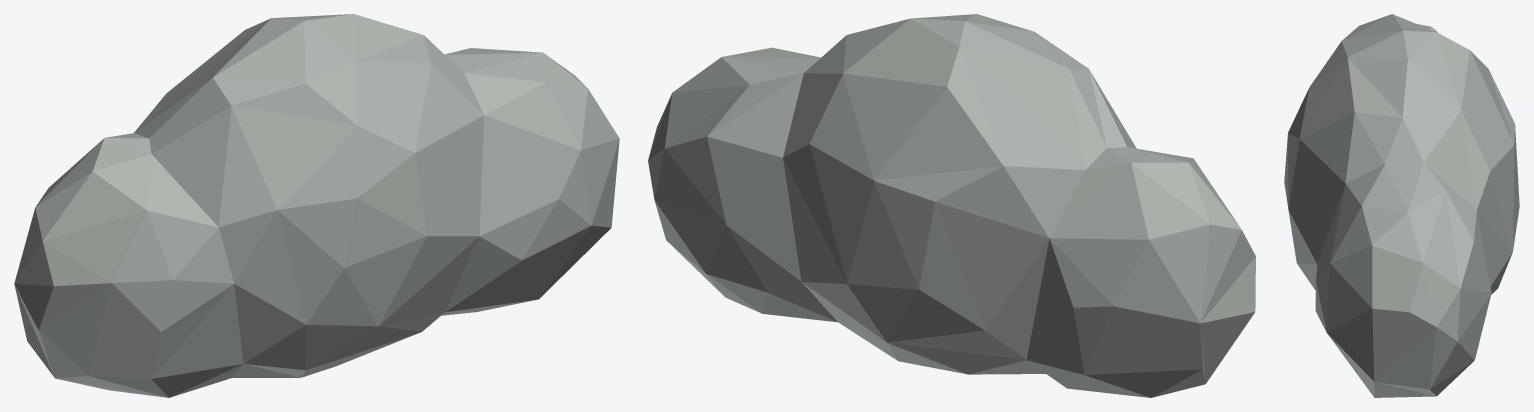
The model's file is SM_Icon_Weather_Cloudy_01.fbx.
The picture shows the model from 3 angles, left to right: view 1: azimuth 30°, elevation 25°; view 2: azimuth 150°, elevation 25°; view 3: azimuth 270°, elevation 25°; orthographic projection. The views are drawn at different scales.
Parts seen in each view (by area): view 1: SM_Icon_Weather_Cloudy_01; view 2: SM_Icon_Weather_Cloudy_01; view 3: SM_Icon_Weather_Cloudy_01.
Part boxes in pixels (<box>): SM_Icon_Weather_Cloudy_01: <box>14,14,619,397</box>; SM_Icon_Weather_Cloudy_01: <box>648,14,1255,397</box>; SM_Icon_Weather_Cloudy_01: <box>1284,14,1519,397</box>.
Bounding box in the file's own units: 79.2 × 44.54 × 32.1.
